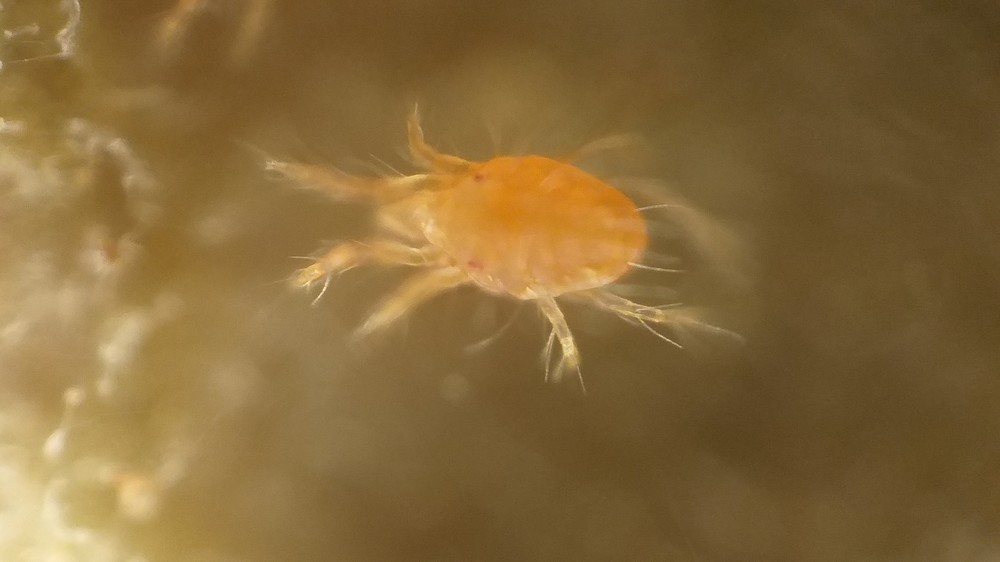Aracnido Rojo: (258, 86, 754, 400)
